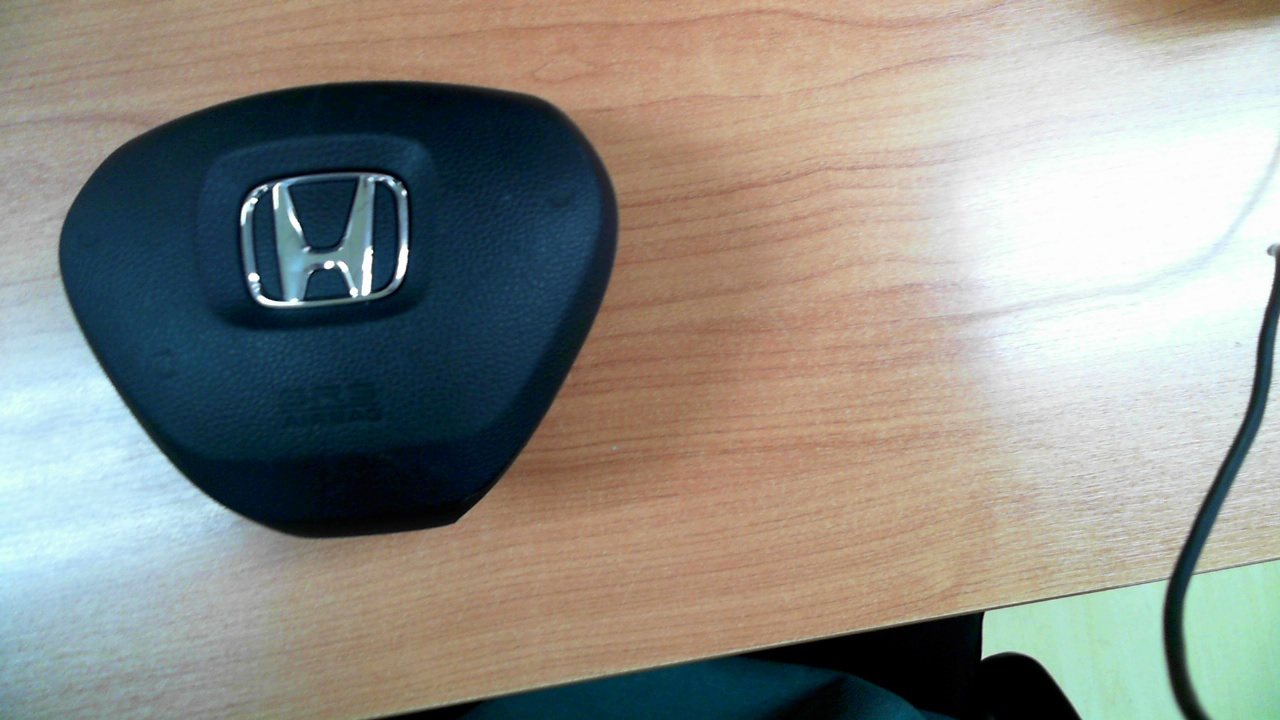Airbag: (58, 80, 619, 538)
Honda: (240, 172, 410, 307)
